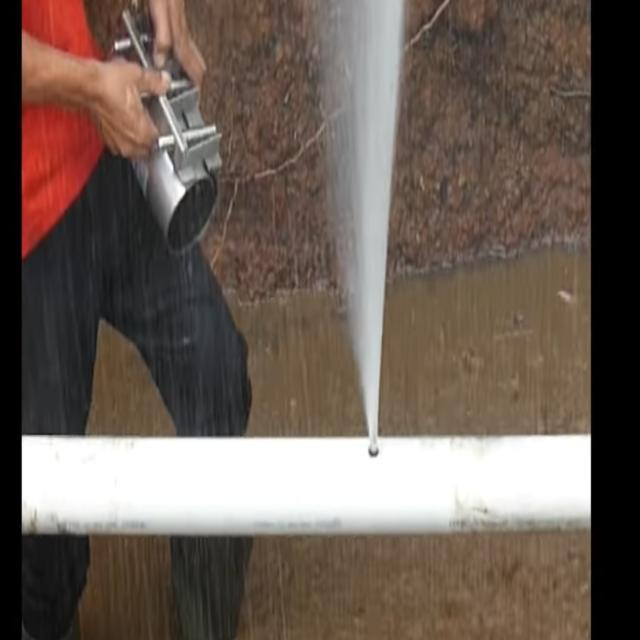leak: (320, 0, 404, 456)
